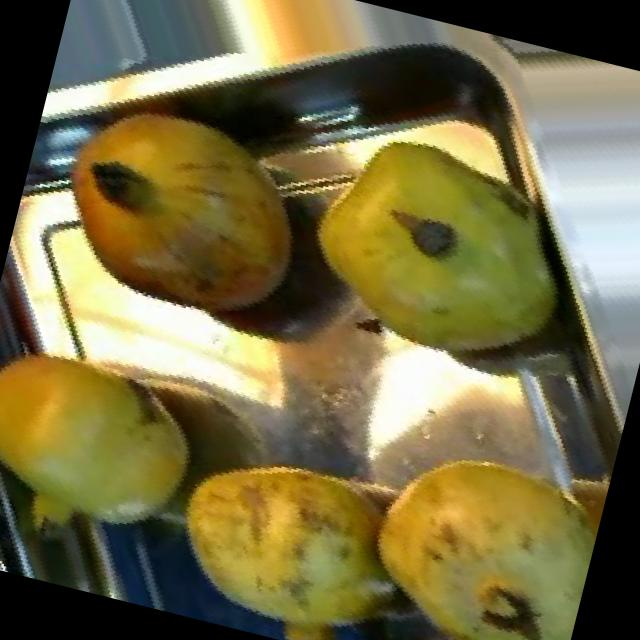fruit: (14, 60, 356, 368), (135, 402, 435, 640), (329, 399, 613, 640), (265, 87, 500, 359)
